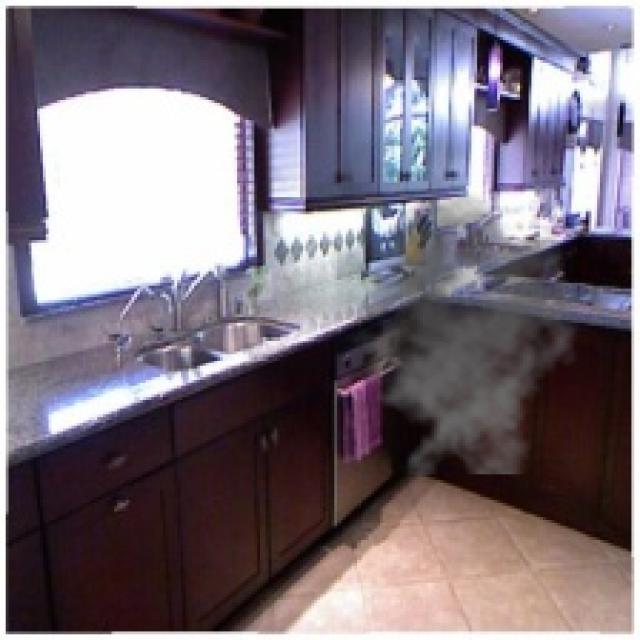smoke: (337, 192, 589, 474)
